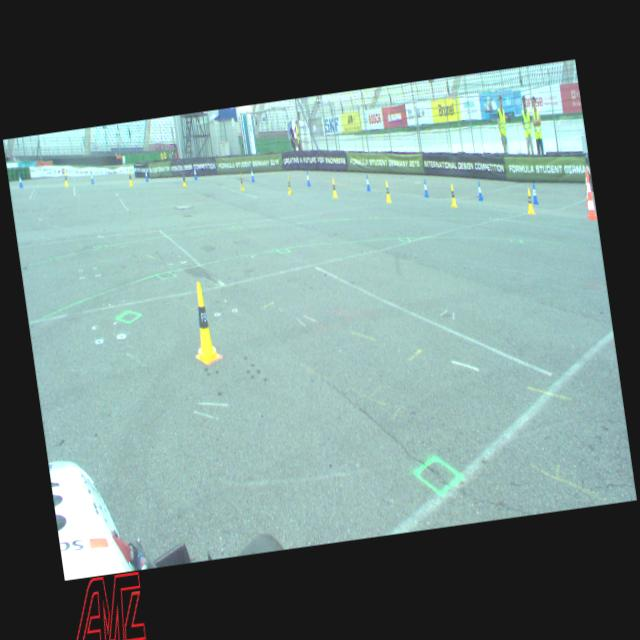blue_cone: (530, 182, 540, 205), (476, 182, 484, 202), (364, 174, 372, 192), (422, 179, 429, 198), (305, 171, 311, 187), (89, 170, 95, 186), (249, 168, 255, 182), (17, 174, 23, 188), (144, 168, 149, 182), (193, 167, 198, 180)
large_orange_cone: (582, 176, 598, 222)
yellow_cone: (186, 280, 222, 366), (524, 187, 536, 215), (448, 184, 458, 209), (383, 181, 392, 204), (285, 176, 293, 196), (331, 177, 338, 199), (180, 170, 188, 188), (238, 172, 245, 191), (63, 170, 69, 187), (128, 170, 134, 187)
